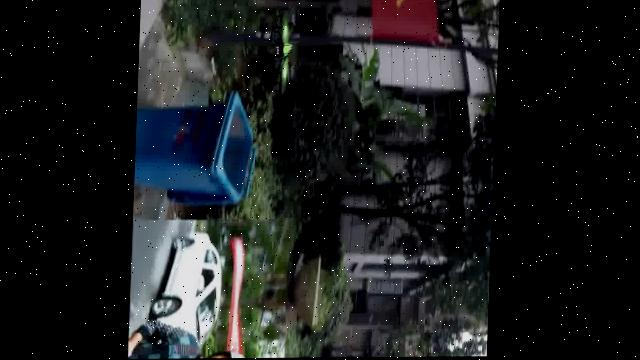drone: (255, 3, 307, 105)
